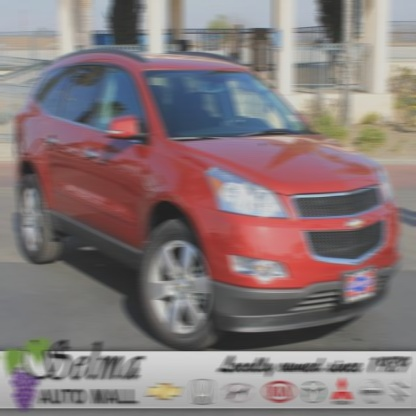Vehicle: (9, 39, 404, 348)
